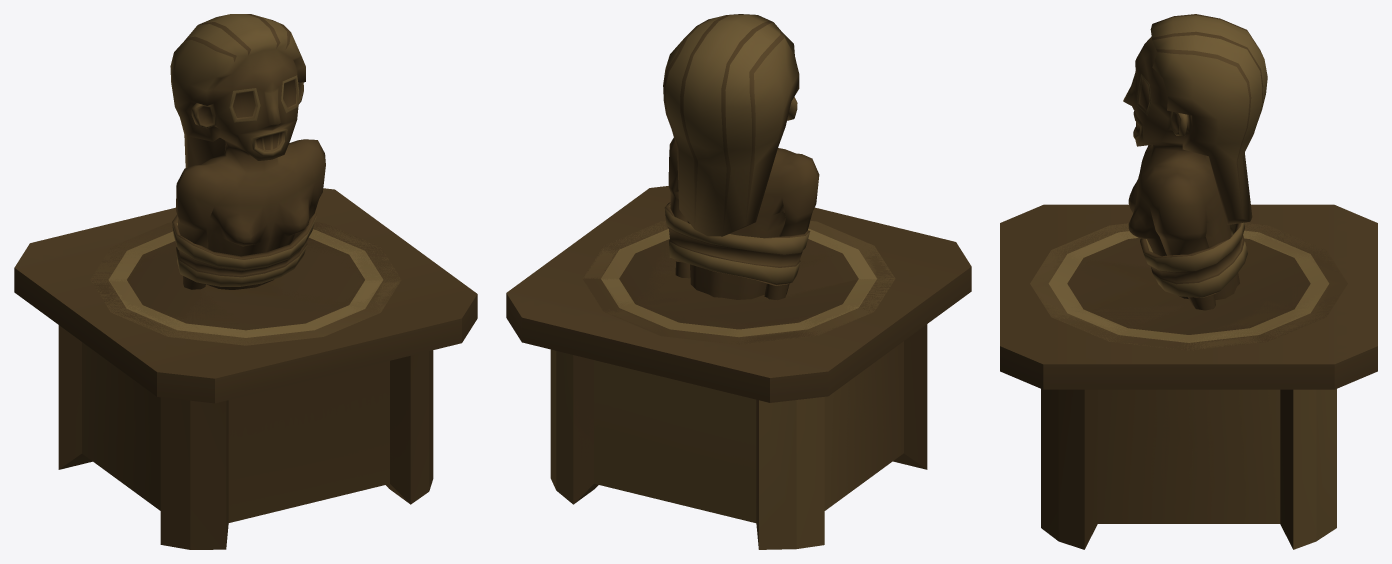
Rendered from MS_Statue01_Boss02.fbx.
3 views of the same model, side by side, from view 1: azimuth 30°, elevation 25°; view 2: azimuth 150°, elevation 25°; view 3: azimuth 270°, elevation 25° (orthographic). The views are drawn at different scales.
Parts seen in each view (by area): view 1: MS_Statue01_Boss02; view 2: MS_Statue01_Boss02; view 3: MS_Statue01_Boss02.
Boxes of the visible parts, <box> form: MS_Statue01_Boss02: <box>14,14,477,549</box>; MS_Statue01_Boss02: <box>506,14,971,549</box>; MS_Statue01_Boss02: <box>1000,14,1377,549</box>.
Size of the model in its own units: 193 by 260 by 193.
